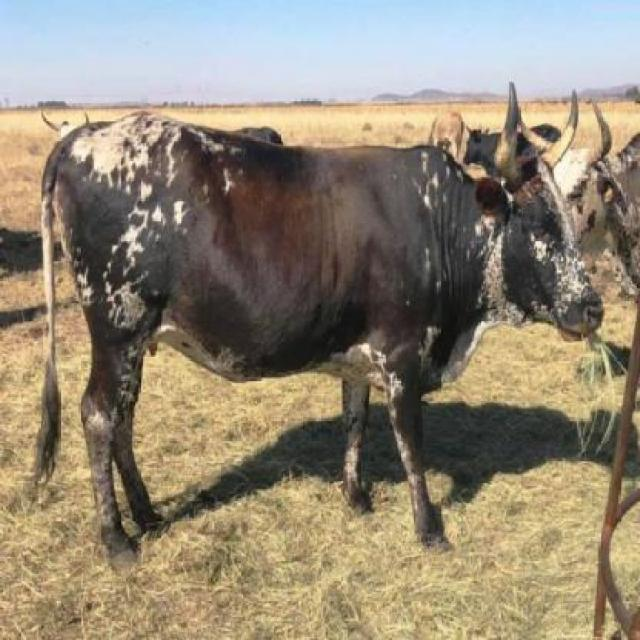Cow: (29, 110, 611, 578)
